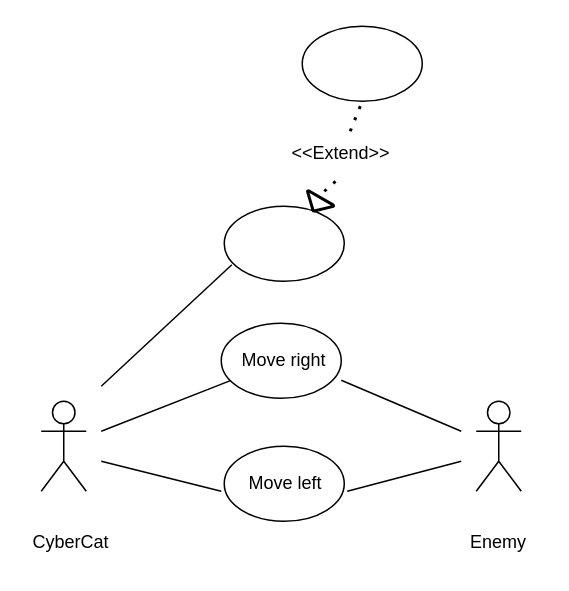
Image size: 569x591. Some labels were removed from this diagram. Here are the shapes that lost their labels. From the top down, the box of each, then its label:
(301, 25, 422, 101): collect mushrooms
(223, 205, 344, 281): Jump
